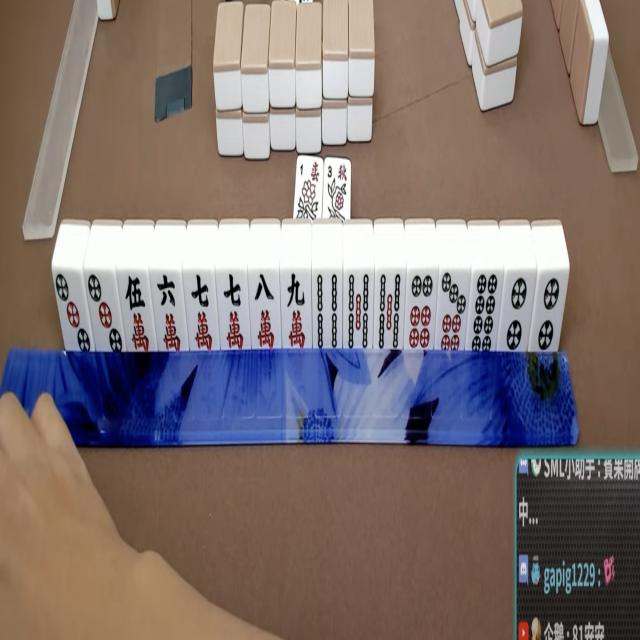2D: (529, 272, 570, 353), (499, 272, 536, 352)
3D: (83, 271, 126, 353), (54, 268, 92, 353)
4B: (313, 272, 342, 350)
5B: (376, 271, 406, 351), (345, 270, 374, 349)
5C: (118, 271, 157, 352)
6C: (152, 271, 188, 352)
6D: (405, 270, 438, 350)
7C: (182, 269, 218, 350), (217, 271, 249, 350)
7D: (436, 270, 471, 351)
8C: (248, 271, 278, 349)
8D: (467, 270, 504, 352)
9C: (281, 270, 310, 348)
